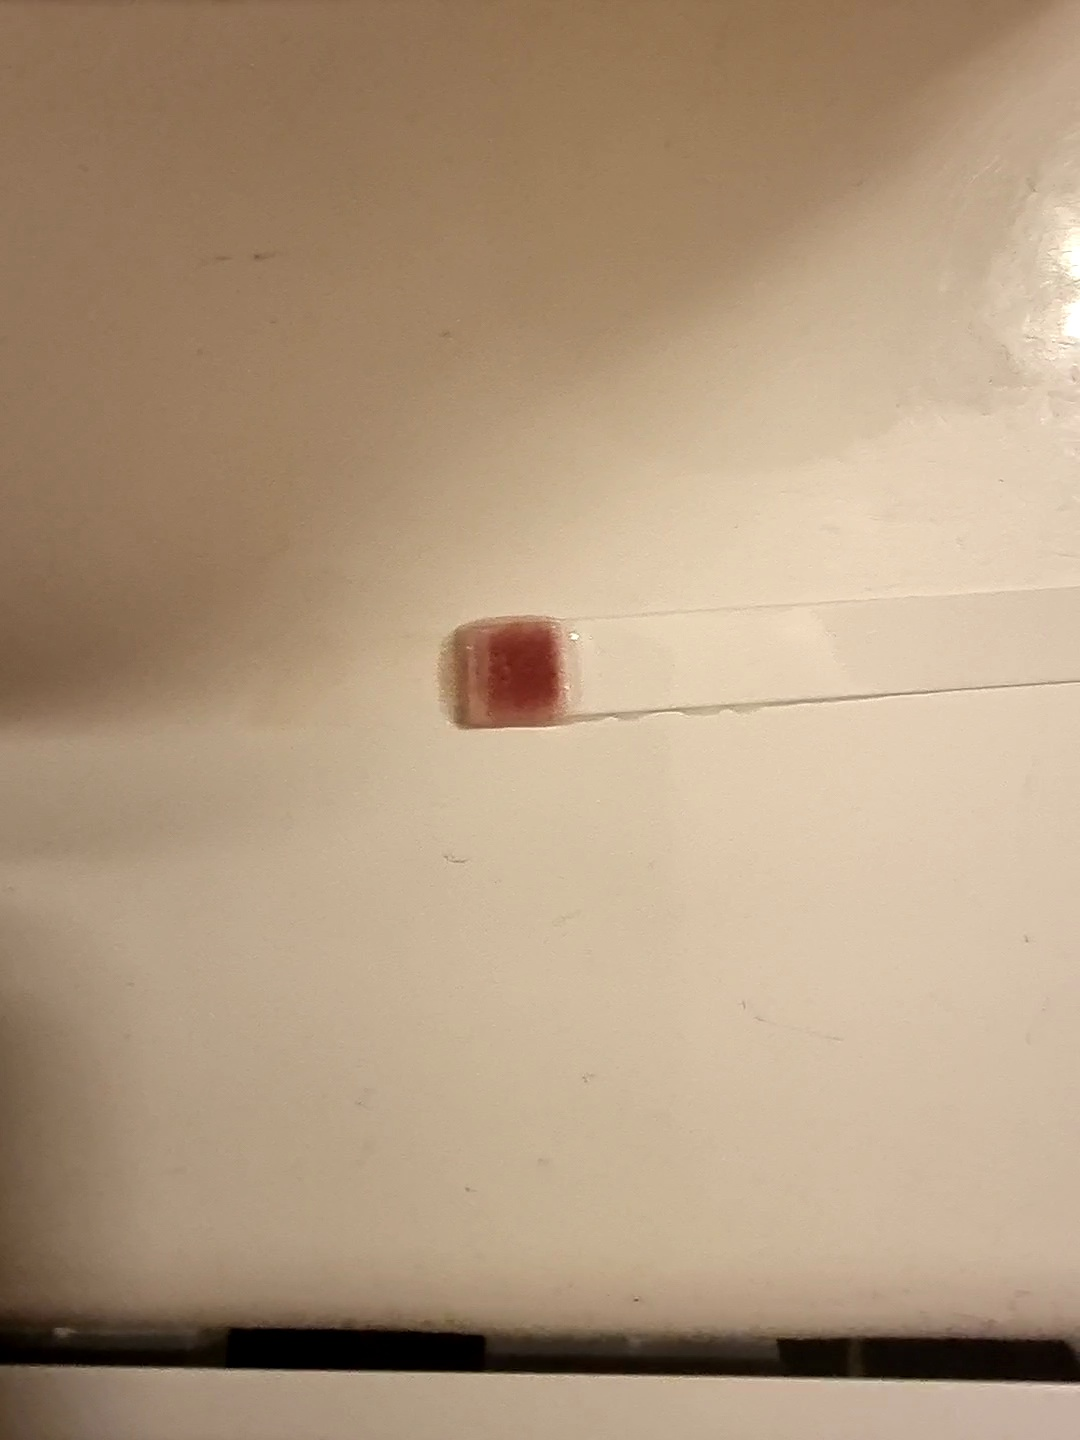keto-tip: (438, 612, 575, 737)
